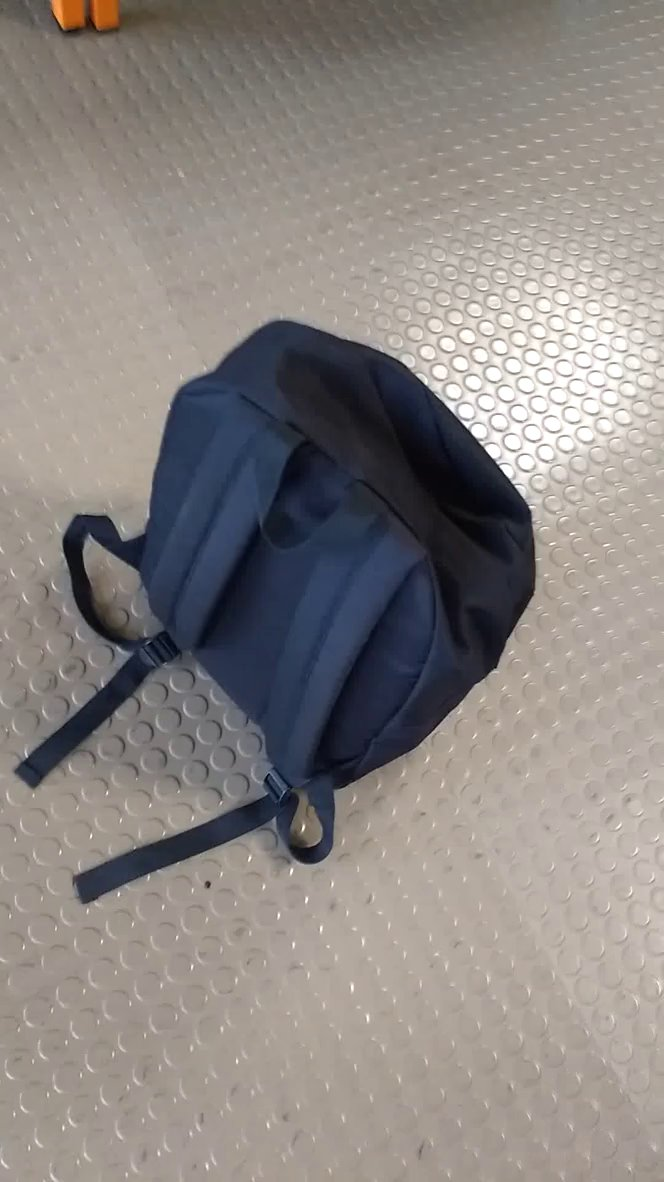bag: (8, 308, 543, 914)
